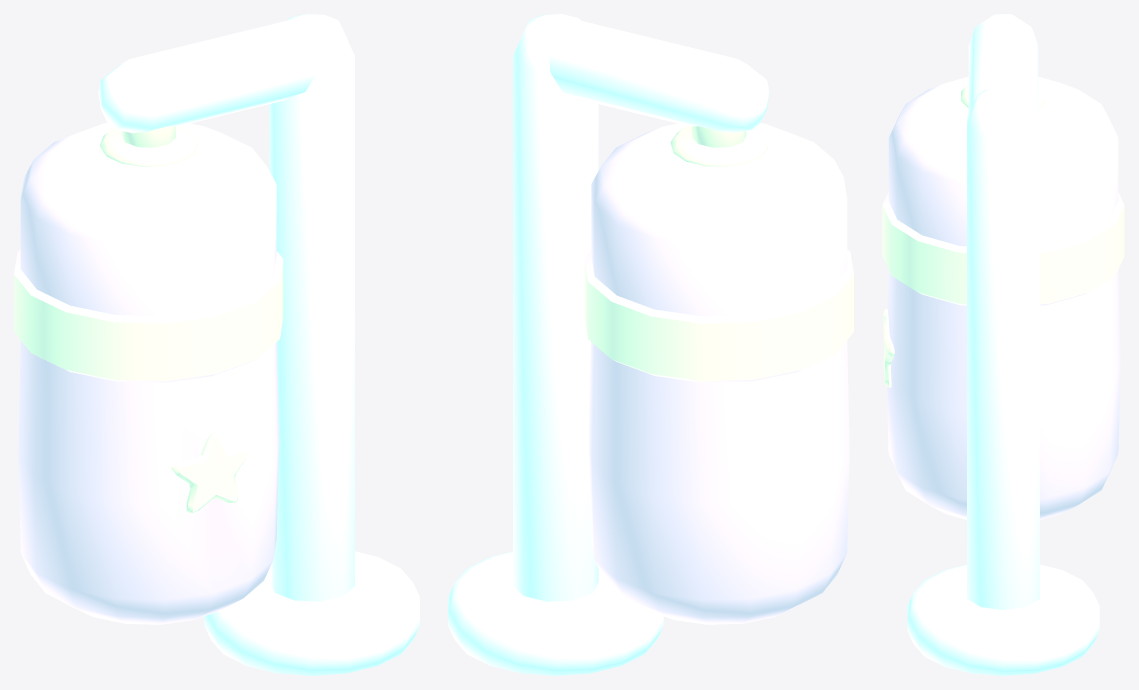
File: props__PunchBag.glb
The picture shows the model from 3 angles, left to right: view 1: azimuth 30°, elevation 25°; view 2: azimuth 150°, elevation 25°; view 3: azimuth 270°, elevation 25°; orthographic projection. The views are drawn at different scales.
Parts seen in each view (by area): view 1: PunchBag; view 2: PunchBag; view 3: PunchBag.
Boxes of the visible parts, box(x1,y1,x2,y2) form: PunchBag: box(14, 14, 419, 675); PunchBag: box(448, 14, 853, 675); PunchBag: box(882, 14, 1124, 675).
Size of the model in its own units: 4.44 by 7.04 by 2.78.
